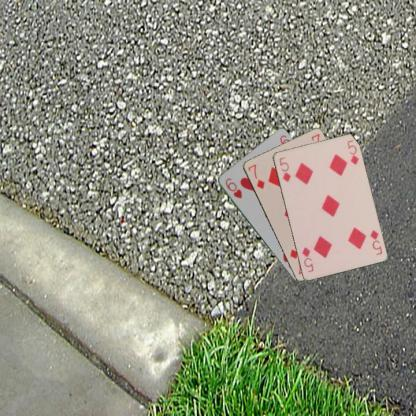5d: (367, 227, 384, 256), (276, 154, 292, 184)
6h: (223, 176, 244, 200)
7d: (245, 161, 266, 190)
